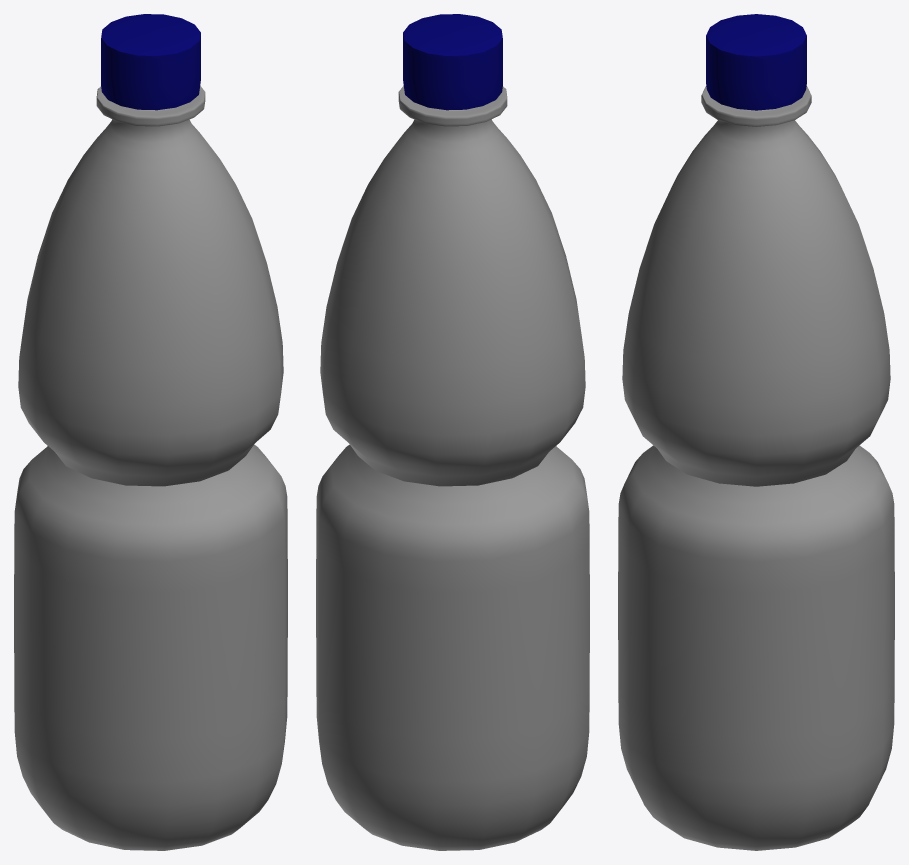
Rendered from bottle_plastic.fbx.
3 renders of one model, left to right at view 1: azimuth 30°, elevation 25°; view 2: azimuth 150°, elevation 25°; view 3: azimuth 270°, elevation 25°, orthographic.
Visible parts, largest first — view 1: Box003; view 2: Box003; view 3: Box003.
Boxes of the visible parts, bbox=[...] form: Box003: bbox=[14, 14, 287, 850]; Box003: bbox=[316, 14, 589, 850]; Box003: bbox=[618, 14, 894, 850].
Size of the model in its own units: 66.54 by 206 by 66.54.
